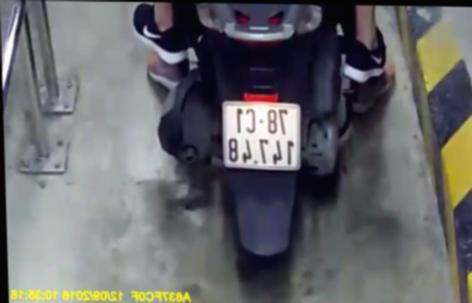License_Plate: (211, 97, 310, 173)
